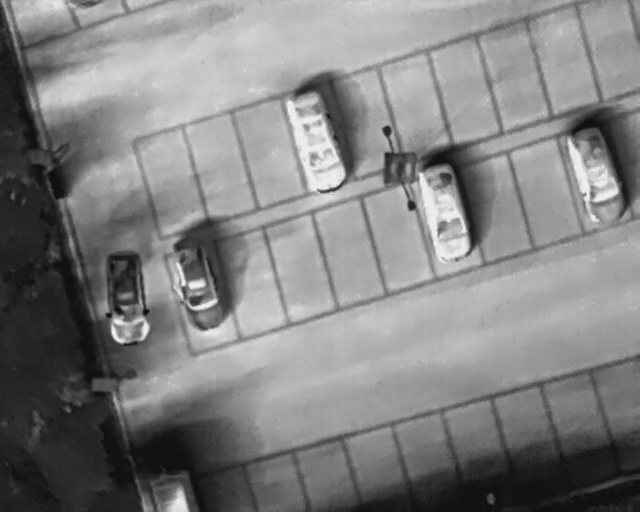Car: (279, 85, 351, 199), (564, 123, 631, 229), (161, 239, 228, 337), (418, 160, 475, 264), (102, 247, 153, 346)
